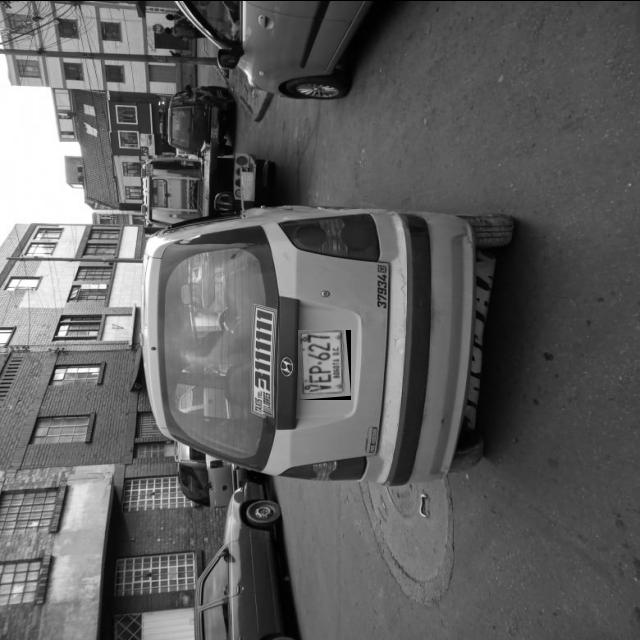plate: (298, 329, 347, 396)
